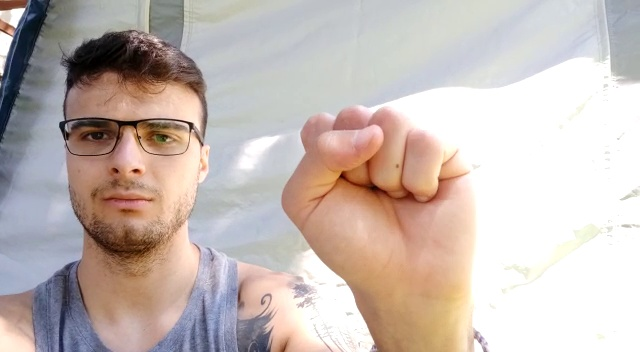Fist: (279, 99, 488, 298)
